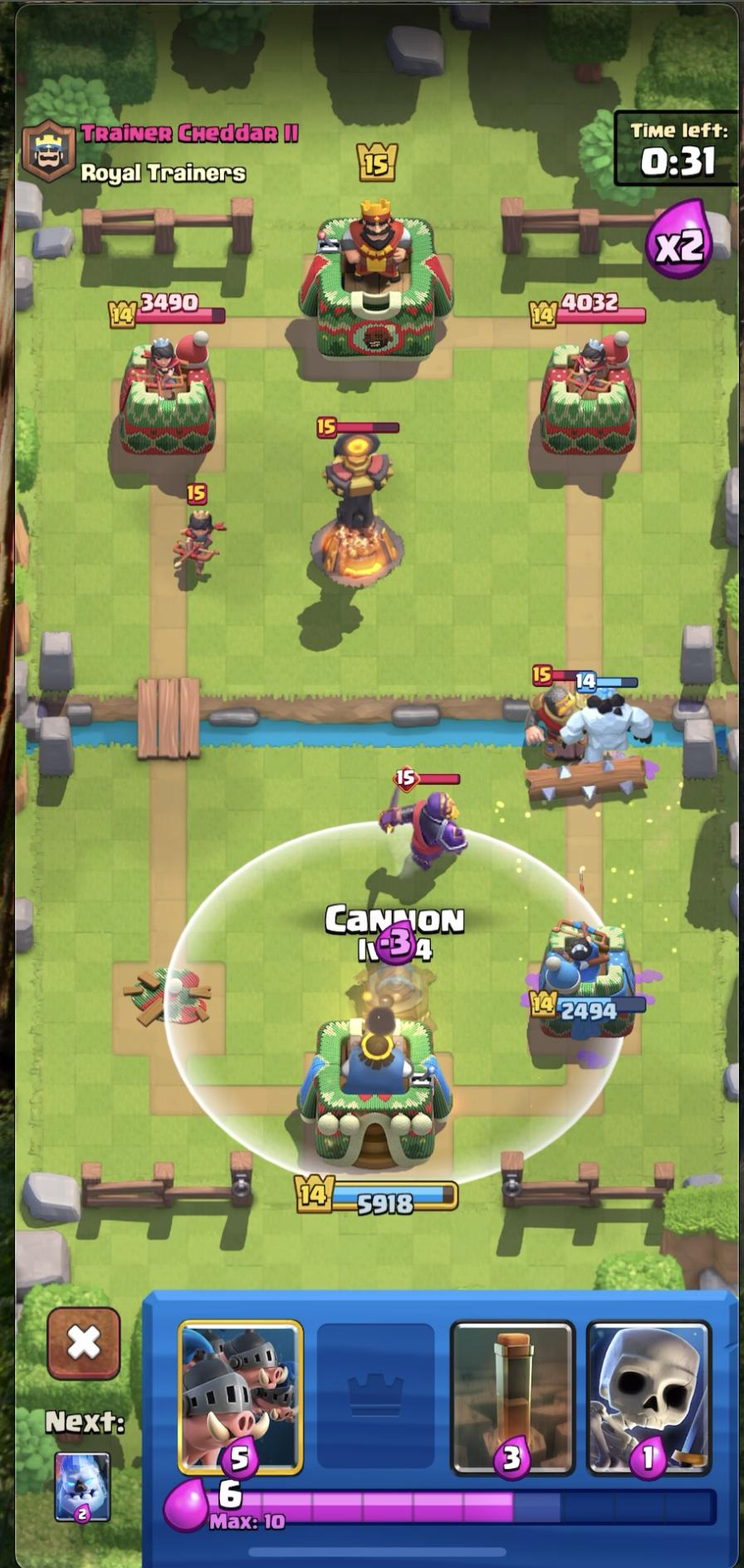card_earthquake: (448, 1317, 574, 1480)
card_icegolem: (54, 1449, 115, 1526)
card_royalhogs: (178, 1317, 306, 1477)
card_skeletons: (587, 1317, 717, 1482)
elixir_bar_6: (159, 1475, 727, 1550)
